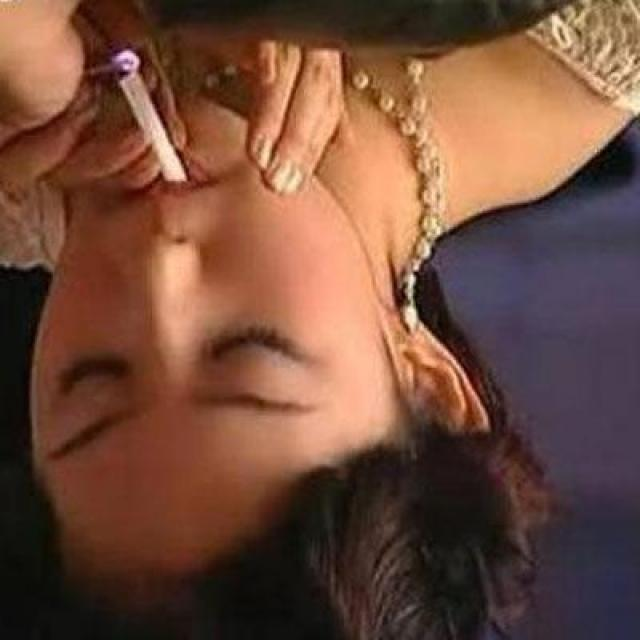cigarette: (101, 53, 205, 197)
